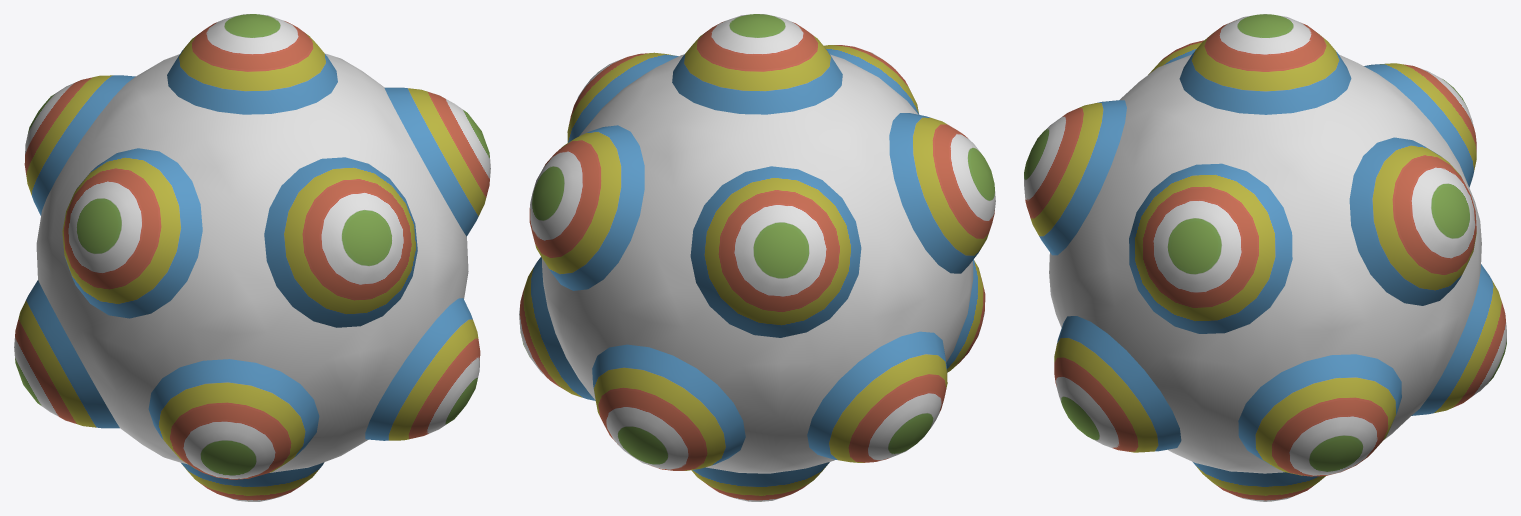
Rendered from bebrik.glb.
3 renders of one model, left to right at view 1: azimuth 30°, elevation 25°; view 2: azimuth 150°, elevation 25°; view 3: azimuth 270°, elevation 25°, orthographic.
Visible parts, largest first — view 1: core_01.001; view 2: core_01.001; view 3: core_01.001.
Part boxes in pixels (x1=…): core_01.001: x1=14, y1=14, x2=490, y2=501; core_01.001: x1=519, y1=14, x2=995, y2=501; core_01.001: x1=1024, y1=14, x2=1506, y2=501.
Size of the model in its own units: 96.84 by 109 by 100.
1 material, 1 textured.
